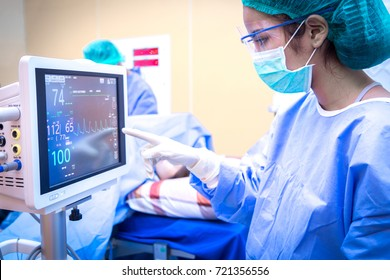doctor: (232, 0, 390, 258)
